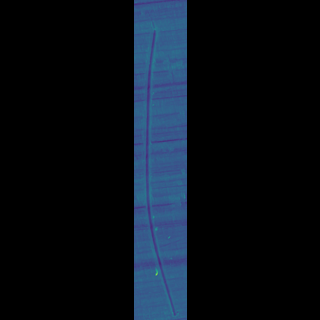Loch: (157, 6, 163, 317)
